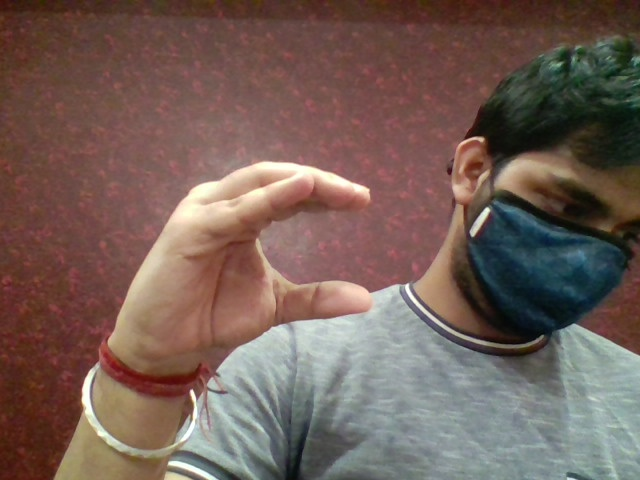c: (131, 155, 384, 325)
